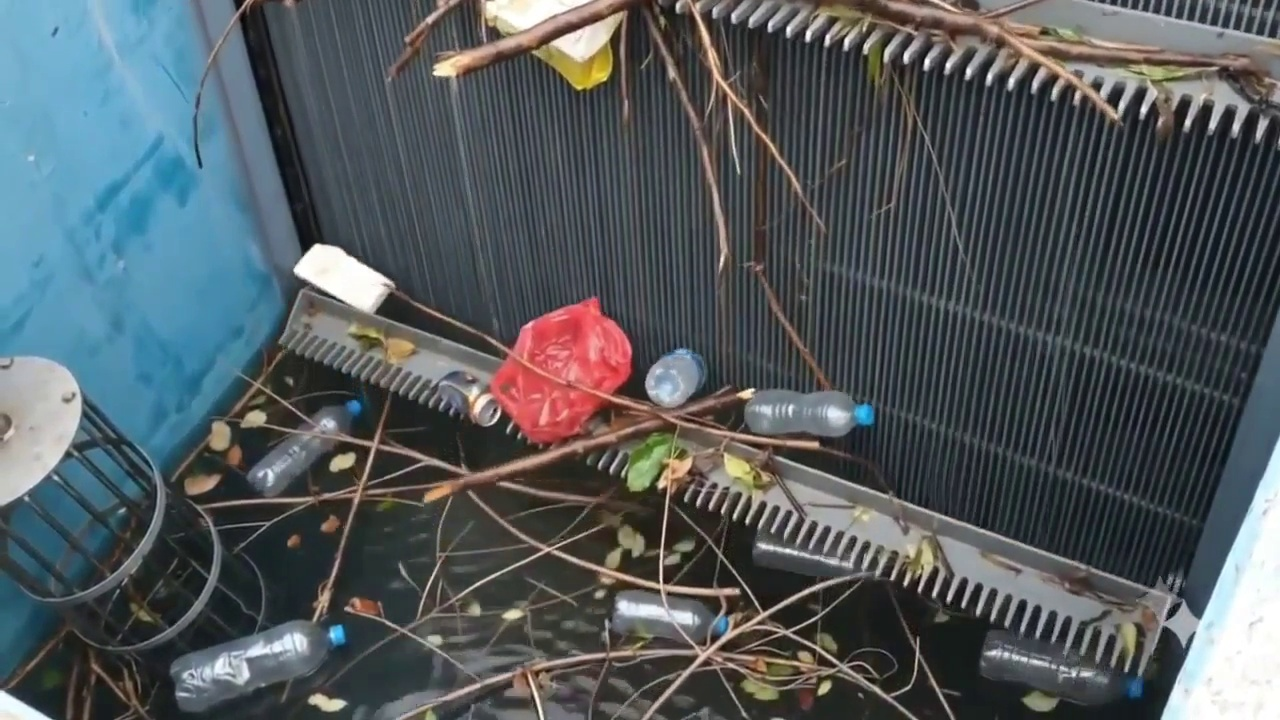debris: (814, 0, 1274, 123), (823, 2, 1138, 121), (822, 0, 1117, 122), (637, 8, 731, 287), (491, 298, 631, 443), (430, 418, 665, 500), (433, 0, 635, 89), (172, 621, 345, 713), (979, 630, 1143, 705), (585, 510, 720, 601), (585, 511, 720, 600), (245, 399, 362, 496), (293, 243, 393, 313), (610, 589, 731, 642), (744, 389, 874, 437), (386, 0, 462, 81), (714, 648, 831, 698), (435, 369, 500, 426), (644, 348, 704, 408), (625, 432, 683, 491), (722, 452, 775, 496), (910, 527, 950, 574), (1149, 82, 1177, 140), (1163, 601, 1199, 646), (591, 408, 648, 435), (904, 536, 938, 581), (1126, 64, 1209, 82), (722, 453, 757, 489), (625, 457, 662, 491), (657, 455, 692, 489), (325, 400, 362, 432), (816, 4, 868, 25), (347, 324, 385, 351), (616, 524, 646, 557), (913, 536, 939, 574), (865, 40, 885, 89), (616, 525, 646, 557), (980, 551, 1021, 574), (740, 678, 779, 701), (183, 473, 222, 496), (384, 338, 416, 364), (1021, 691, 1058, 712), (207, 420, 231, 452), (307, 693, 347, 712), (1117, 622, 1137, 660), (397, 562, 421, 593), (346, 597, 382, 616), (1040, 27, 1084, 42), (38, 667, 66, 690), (129, 602, 158, 624), (422, 483, 453, 503), (328, 451, 356, 472), (1140, 604, 1159, 634), (795, 685, 815, 711), (511, 672, 531, 697), (241, 409, 267, 428), (815, 632, 837, 654), (616, 525, 636, 549), (604, 546, 624, 569), (629, 532, 645, 558), (1141, 657, 1159, 680), (533, 672, 553, 692), (320, 514, 341, 533), (224, 445, 242, 467), (599, 511, 622, 528), (851, 505, 873, 522), (311, 588, 327, 611), (766, 663, 794, 676), (624, 636, 651, 649), (670, 538, 695, 552), (502, 608, 524, 621), (662, 552, 682, 566), (247, 394, 268, 407), (750, 657, 767, 673), (464, 600, 481, 616), (816, 678, 831, 696), (796, 650, 814, 664), (932, 609, 949, 623), (374, 500, 395, 511), (424, 634, 443, 646), (597, 574, 616, 586), (286, 534, 301, 548), (805, 602, 823, 613), (419, 708, 436, 719), (641, 549, 661, 557), (593, 588, 607, 598), (282, 376, 294, 387), (512, 600, 528, 608), (770, 717, 783, 719)
